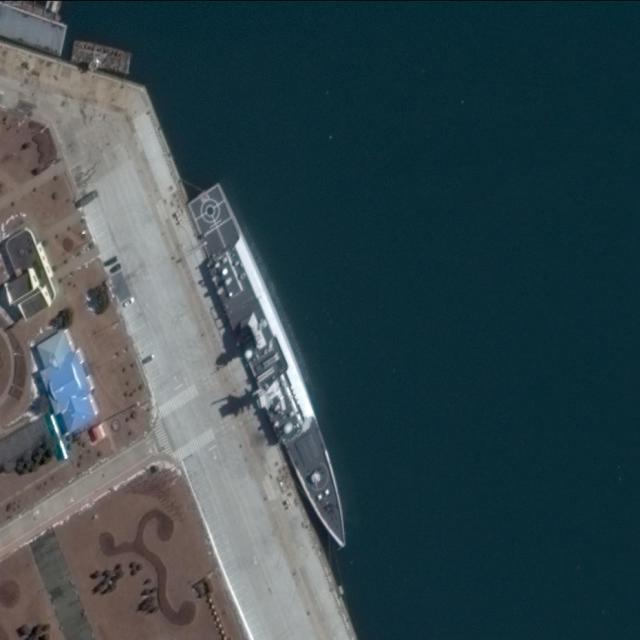Auxiliary Ships: (176, 178, 370, 554)
